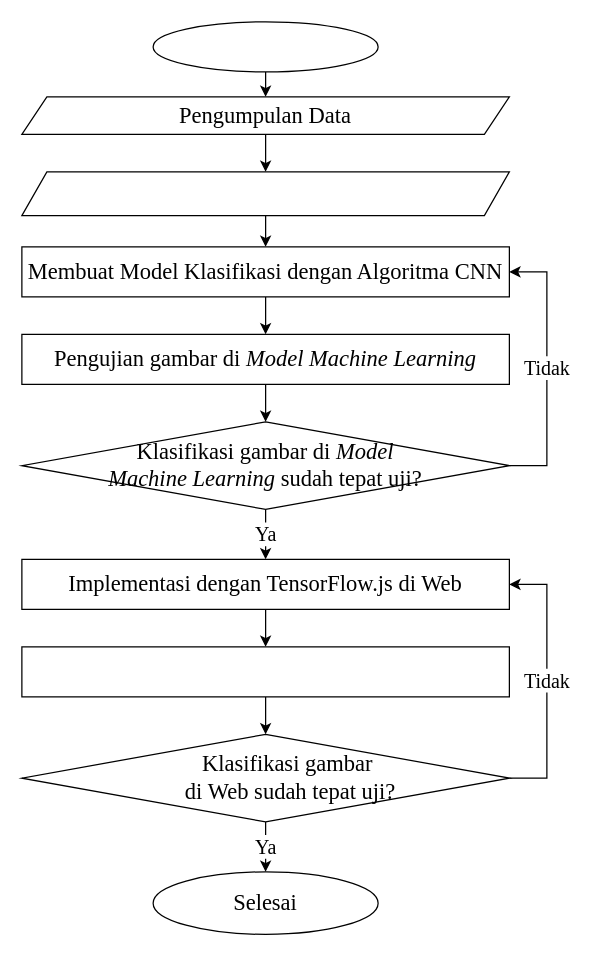
This 591x956 diagram has some shape labels left out. Each missing label, with the centre of its shape:
"Mulai" belongs at point (265, 46).
"Pengelolaan Data Awal" belongs at point (265, 193).
"Pengujian gambar di Web" belongs at point (265, 671).
